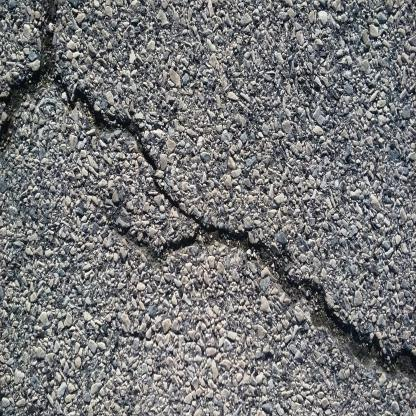Cracks: (51, 54, 416, 383), (0, 1, 62, 158)
